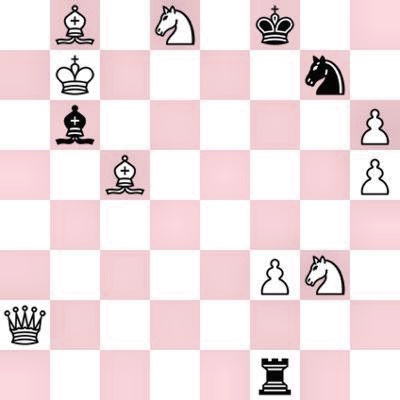black-bishop: (50, 100, 100, 150)
black-king: (250, 0, 300, 50)
black-knight: (300, 50, 350, 100)
black-rook: (250, 350, 300, 400)
white-bishop: (50, 0, 100, 50), (100, 150, 150, 200)
white-king: (50, 50, 100, 100)
white-knight: (150, 0, 200, 50), (300, 250, 350, 300)
white-pawn: (350, 100, 400, 150), (350, 150, 400, 200), (250, 250, 300, 300)
white-queen: (0, 300, 50, 350)
